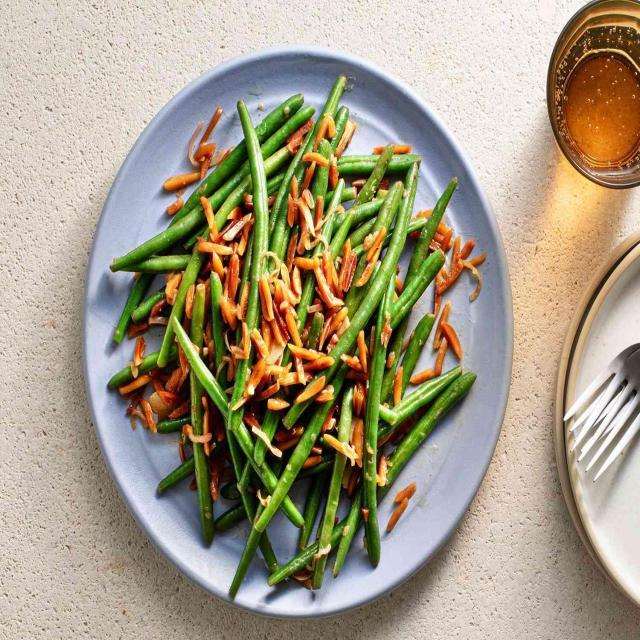Beans: (100, 61, 477, 596)
